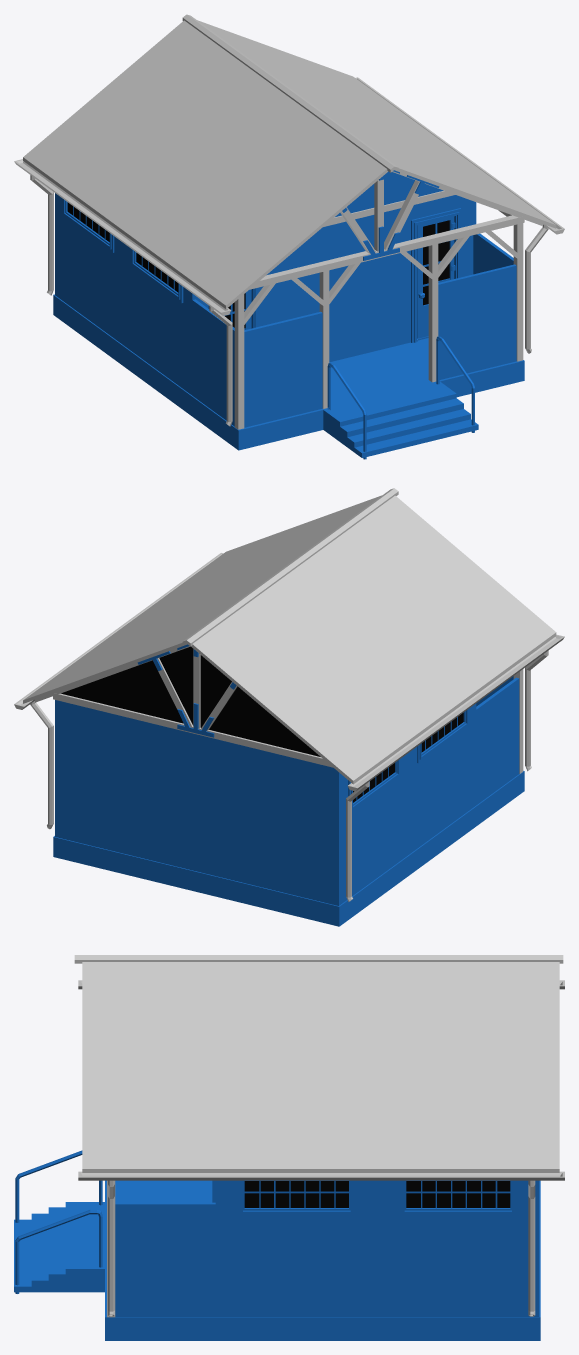
3 renders of one model, top to bottom at view 1: azimuth 30°, elevation 25°; view 2: azimuth 150°, elevation 25°; view 3: azimuth 270°, elevation 25°, orthographic. The views are drawn at different scales.
Parts seen in each view (by area): view 1: Cube_11, Cube_7; view 2: Cube_11; view 3: Cube_11.
Part boxes in pixels (box(x1,y1,x2,y2)): Cube_11: box(14, 14, 564, 459); Cube_7: box(417, 216, 454, 338); Cube_11: box(14, 488, 564, 926); Cube_11: box(14, 955, 564, 1340).
Bounding box in the file's own units: 760 × 551 × 897.
